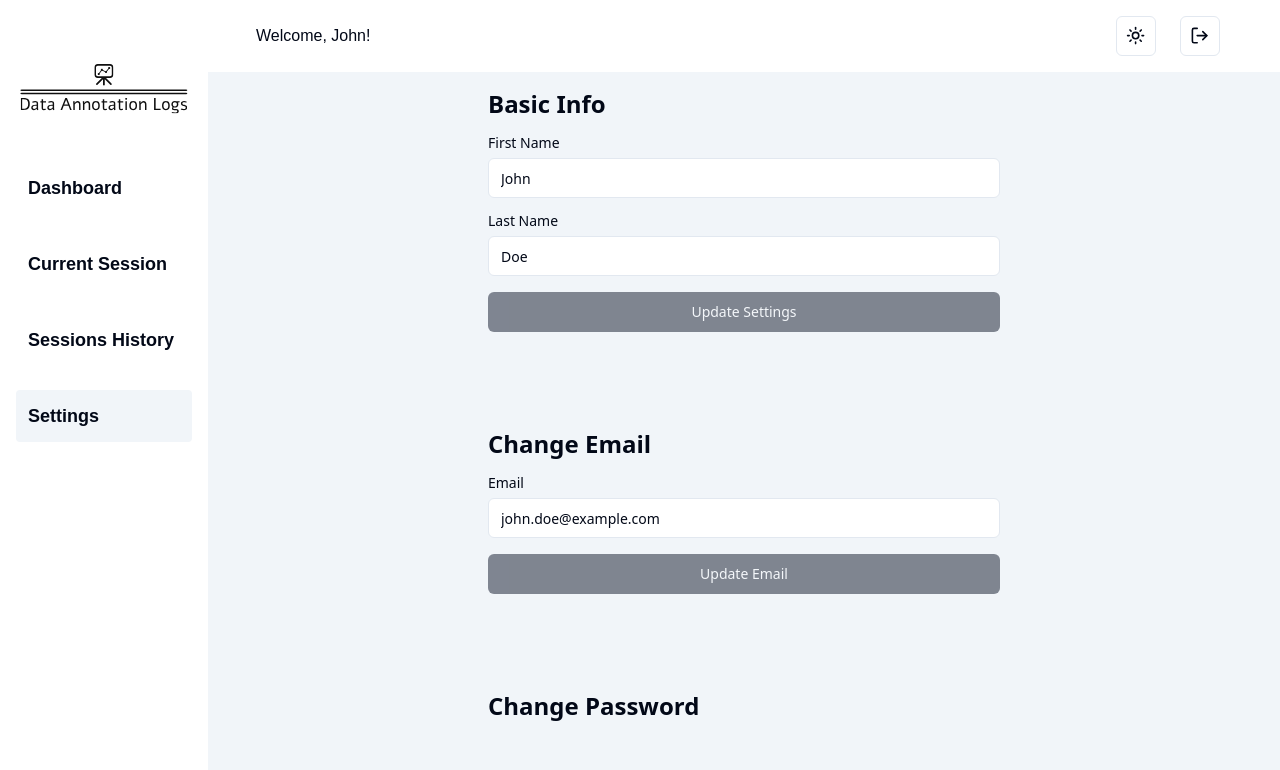
Test case: Email Change and Verification › Change Email Form › should handle email update process and cancellation correctly
Replace the text in the field with test id "email-input" with "new.email@example.com" at (744, 518), box [488,498,1000,538]
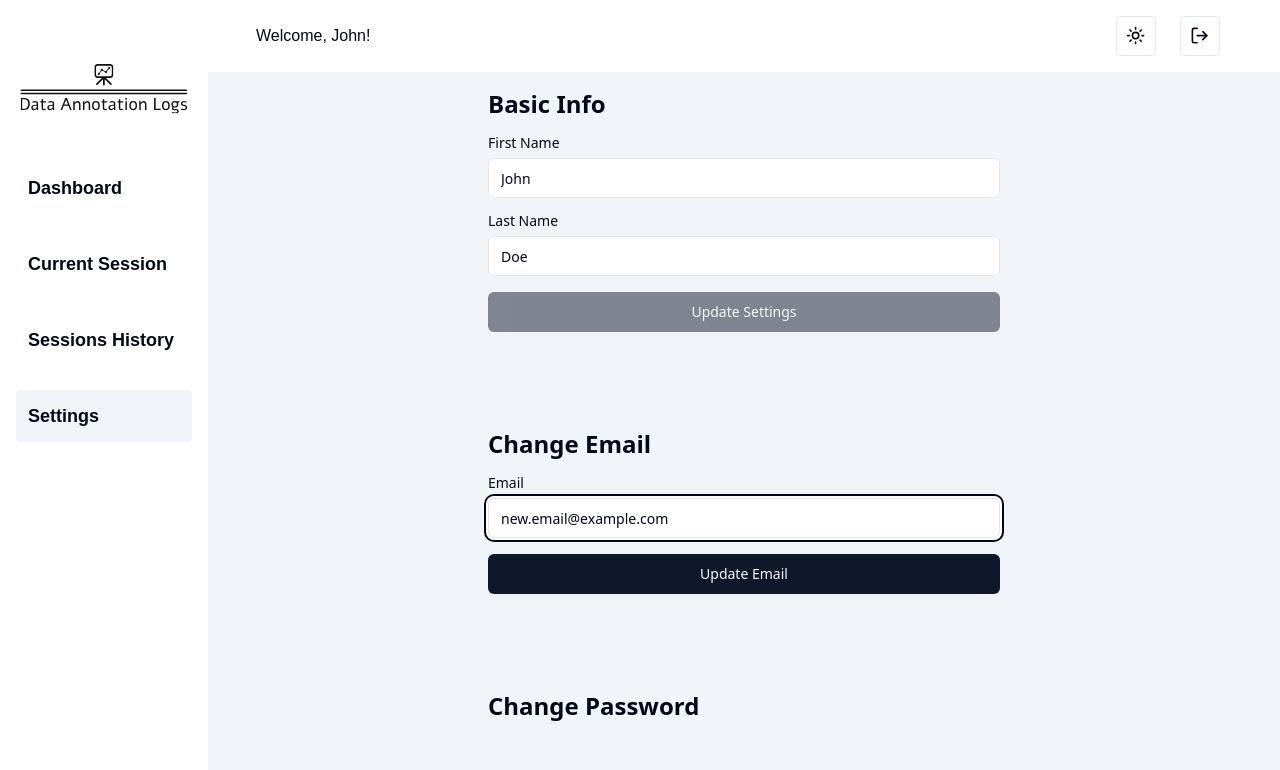
Click the button with test id "update-email-button".
click(744, 574)  # box [488,554,1000,594]
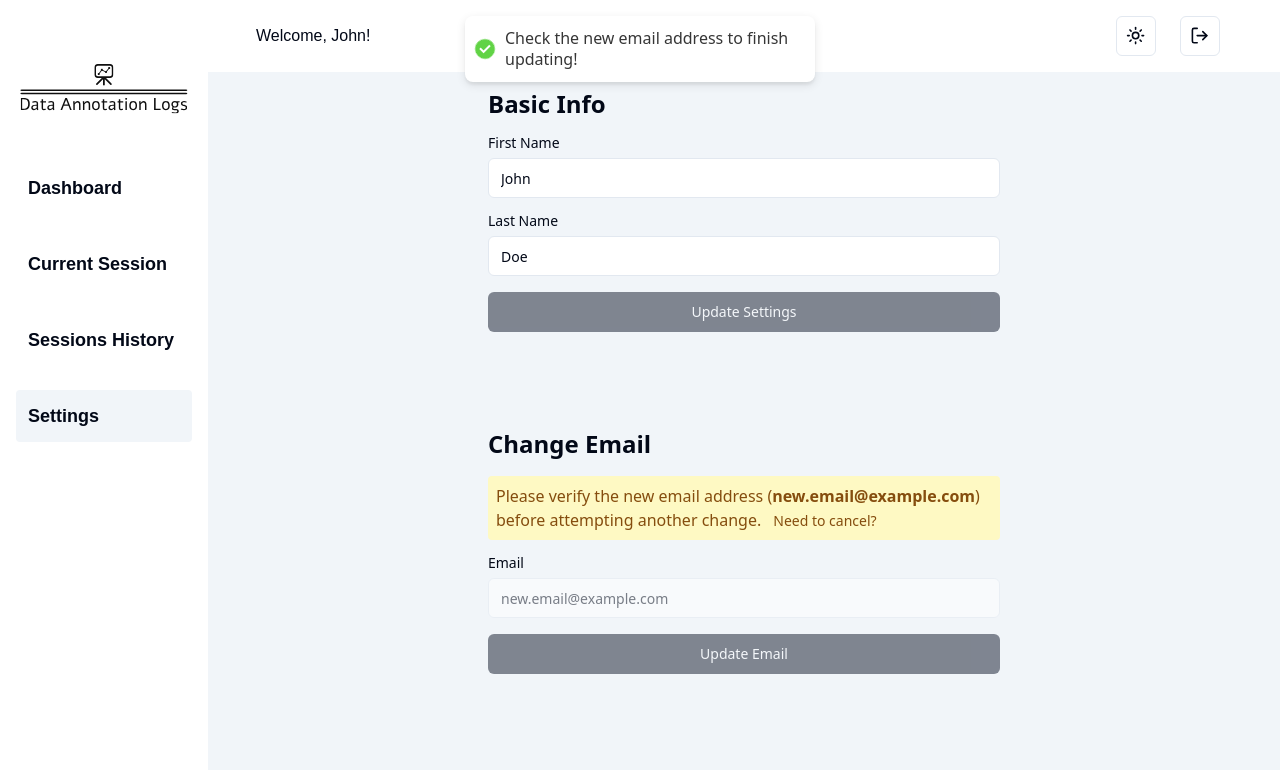
Check: the field with test id "email-input" is disabled, box [488,578,1000,618]
Check: the button with test id "update-email-button" is disabled, box [488,634,1000,674]
Check: the element with test id "pending-email-change-notification" is shown, box [488,476,1000,540]
Click the button with test id "cancel-email-change-button".
click(825, 521)  # box [773,511,876,531]
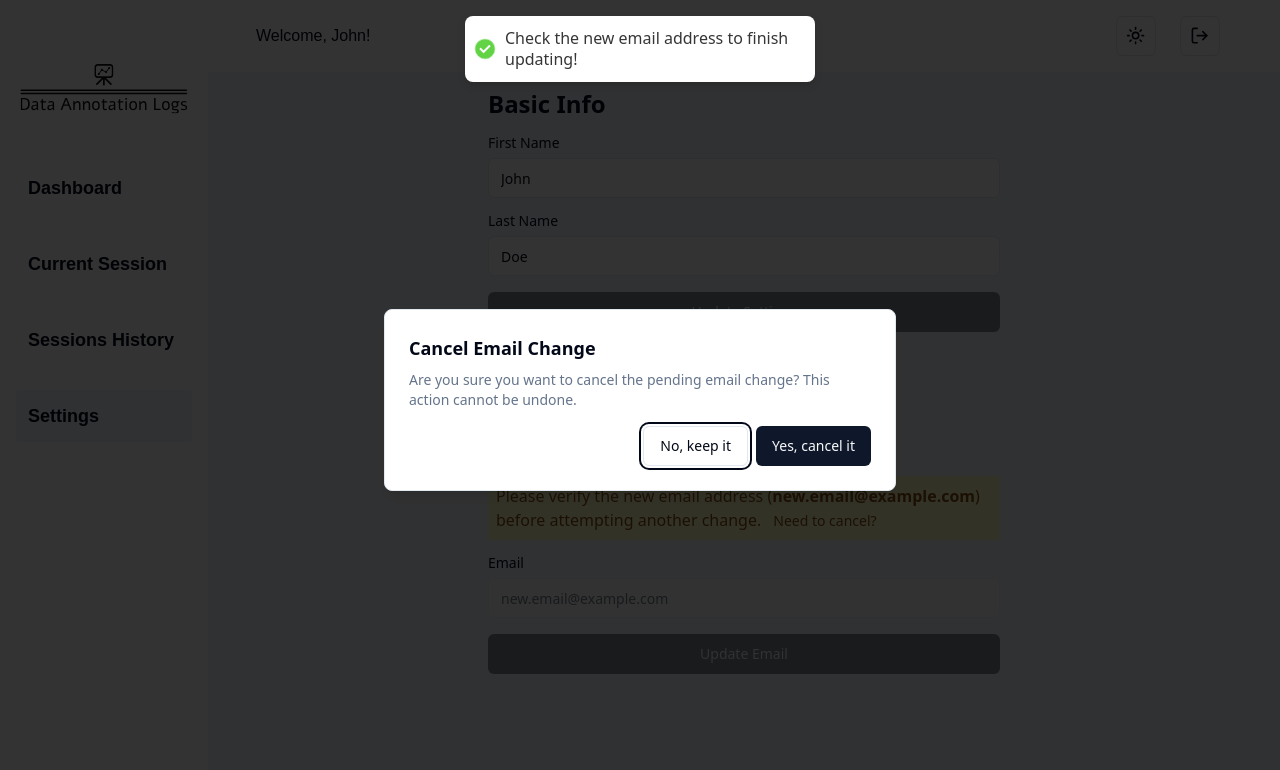
Check: the dialog with test id "cancel-email-change-dialog" is shown, box [384,309,896,491]
Click the button with test id "cancel-cancel-email-change-button".
click(696, 446)  # box [643,426,748,466]
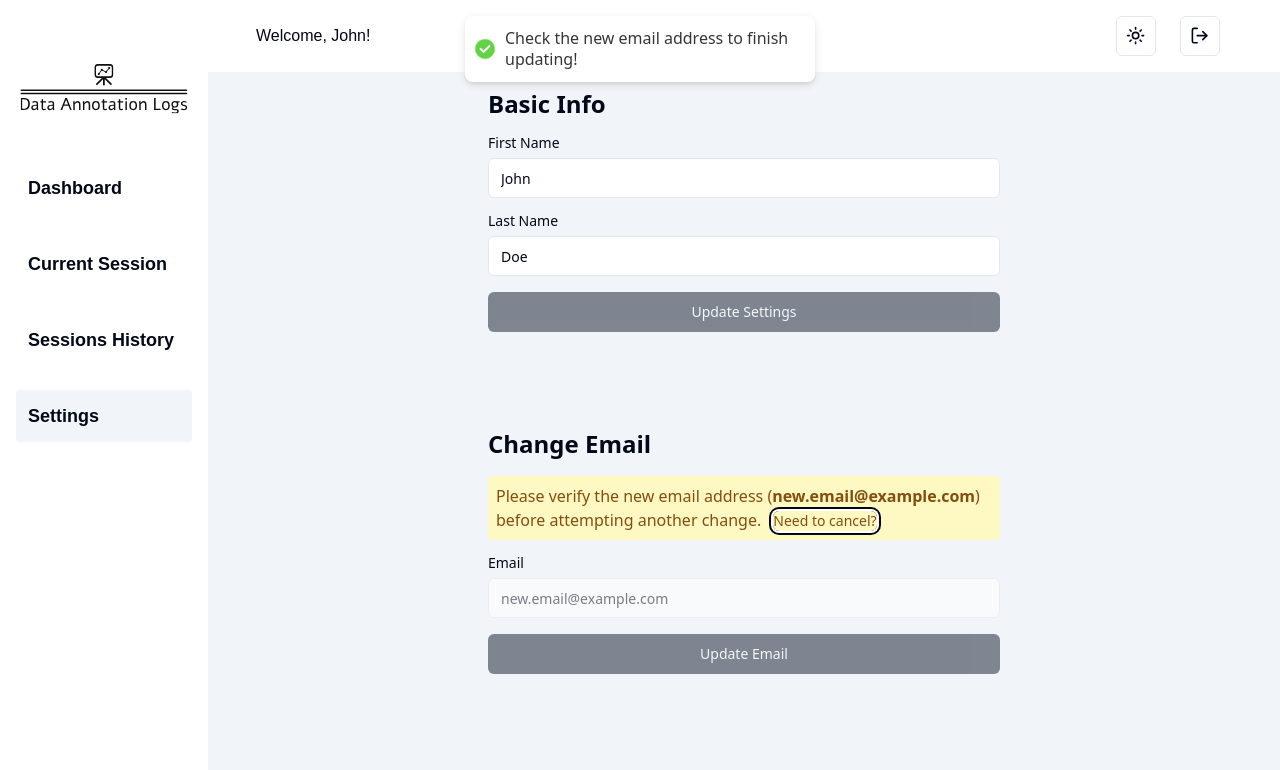
Check: the dialog with test id "cancel-email-change-dialog" is gone
Click the button with test id "cancel-email-change-button".
click(825, 521)  # box [773,511,876,531]
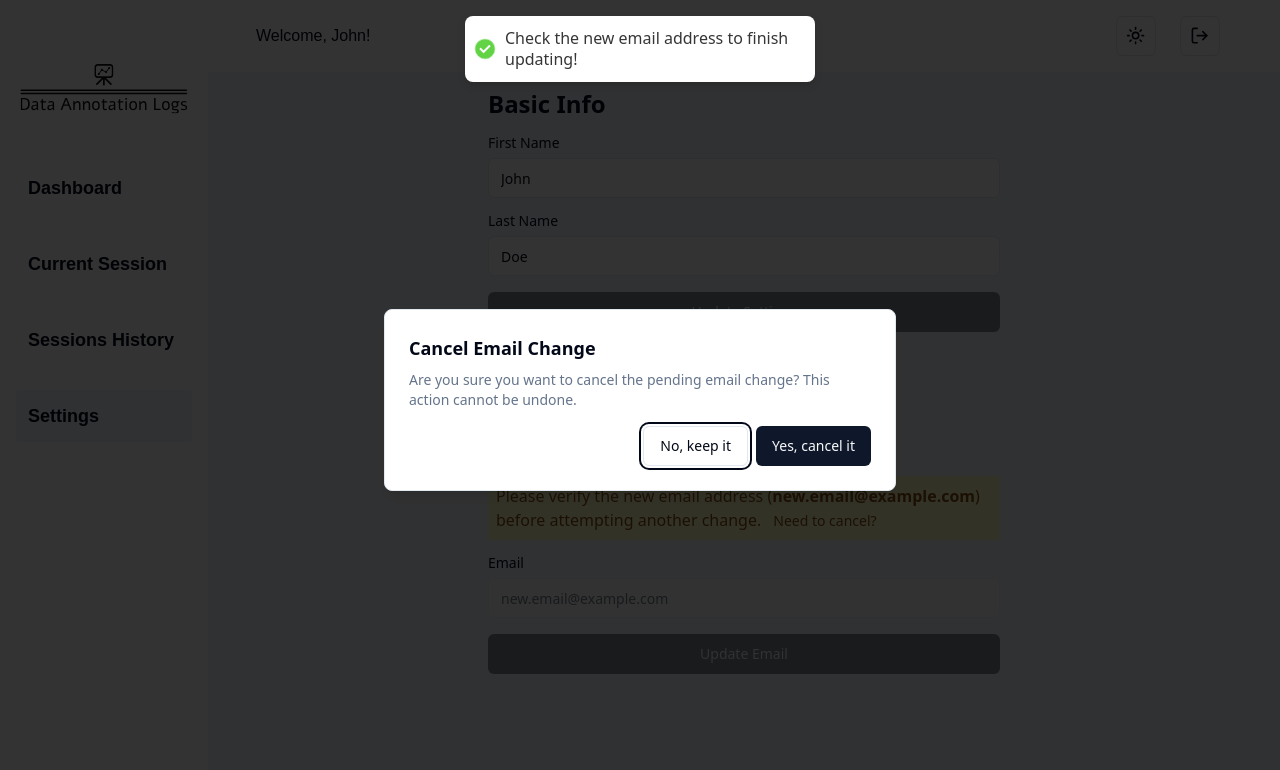
Click the button with test id "confirm-cancel-email-change-button".
click(814, 446)  # box [756,426,871,466]
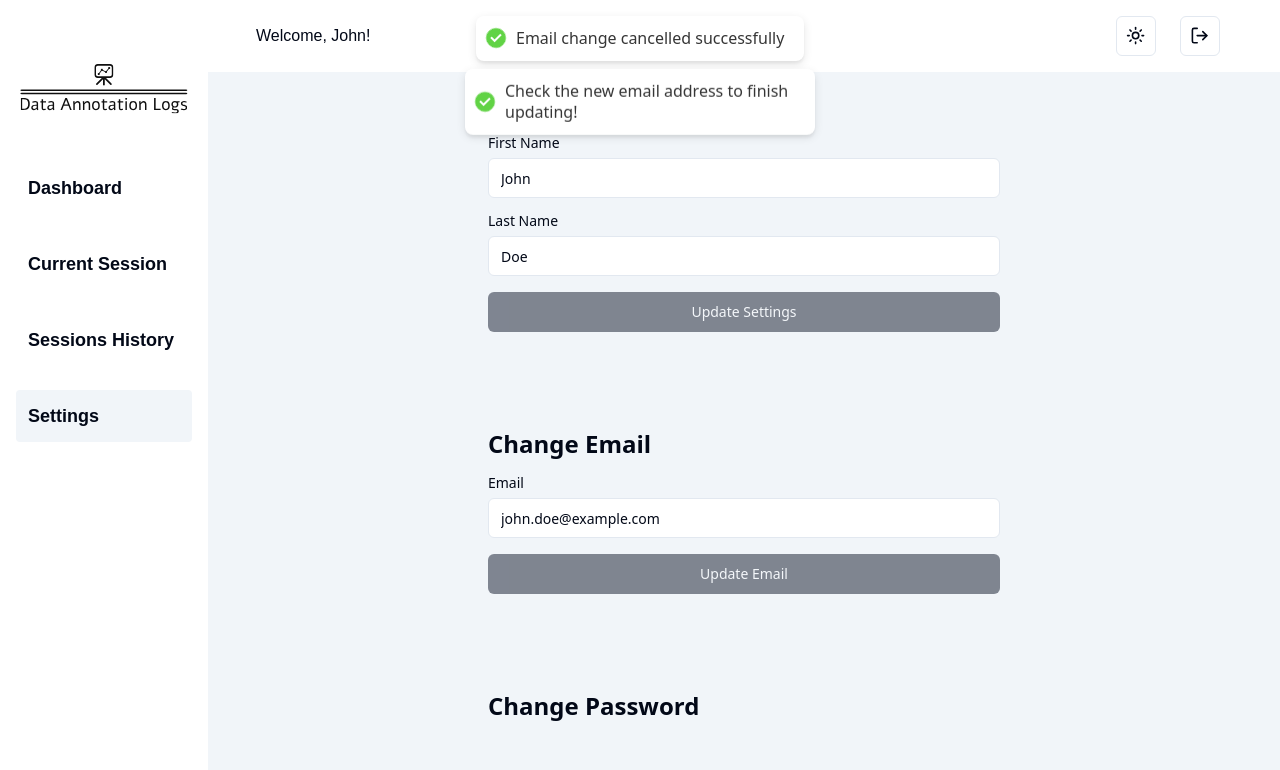
Check: the button with test id "update-email-button" is disabled, box [488,554,1000,594]
Check: the element with test id "pending-email-change-notification" is gone
Check: the field with test id "email-input" holds "john.doe@example.com", box [488,498,1000,538]
